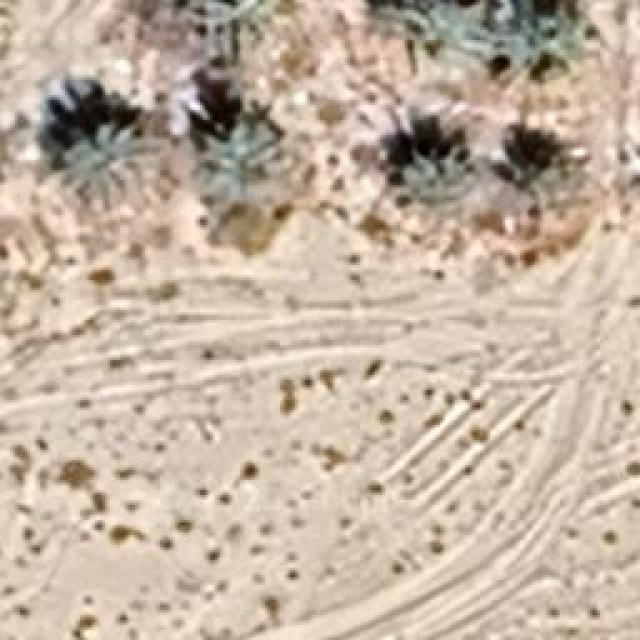PalmTree: (62, 120, 168, 215), (382, 128, 468, 222), (190, 120, 280, 198), (499, 0, 582, 82), (498, 134, 582, 212), (412, 5, 490, 80), (186, 0, 276, 55), (0, 105, 30, 180)
